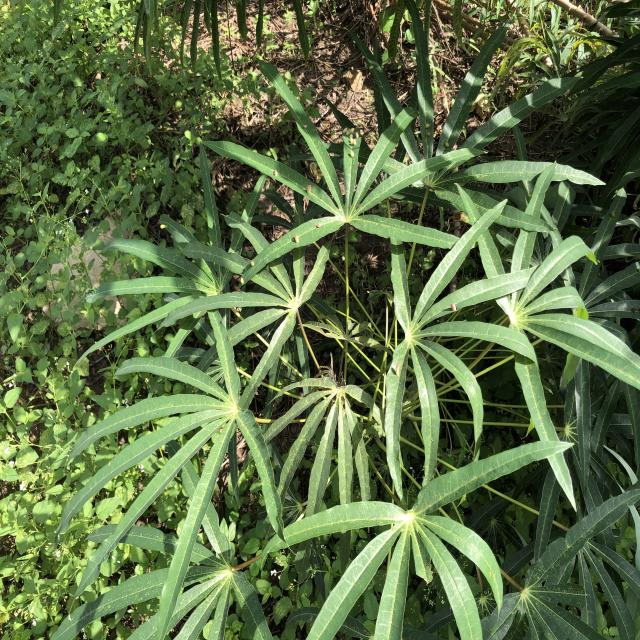Maleza: (0, 167, 89, 640), (0, 7, 169, 218)
Mosca: (346, 131, 364, 162), (384, 355, 410, 374), (444, 296, 463, 318), (285, 225, 302, 248), (301, 176, 318, 196), (294, 115, 313, 131)
